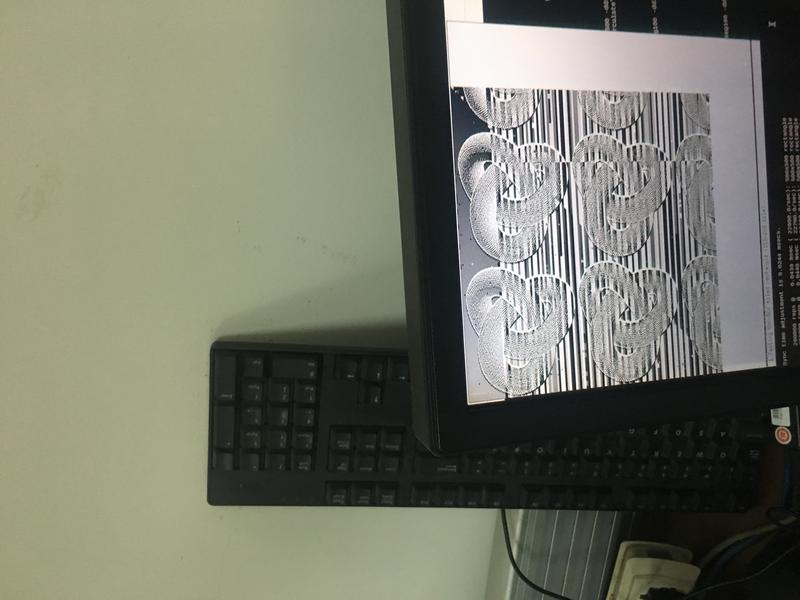xrandr_pass: (418, 15, 784, 411)
